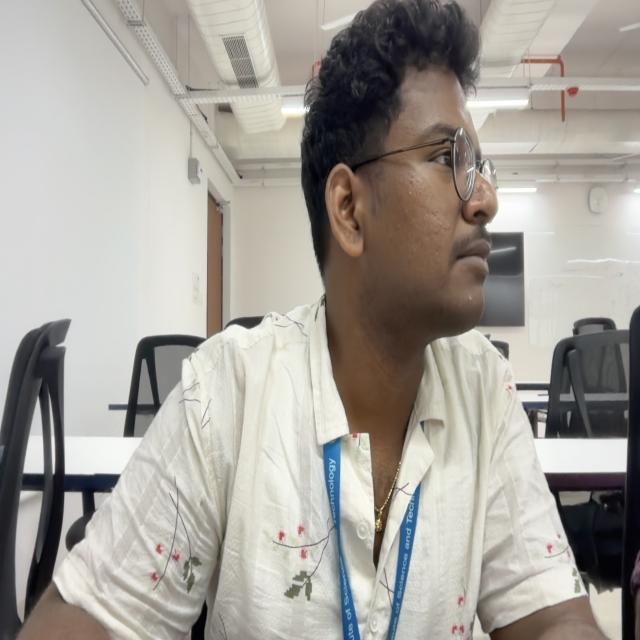sai: (290, 0, 501, 344)
